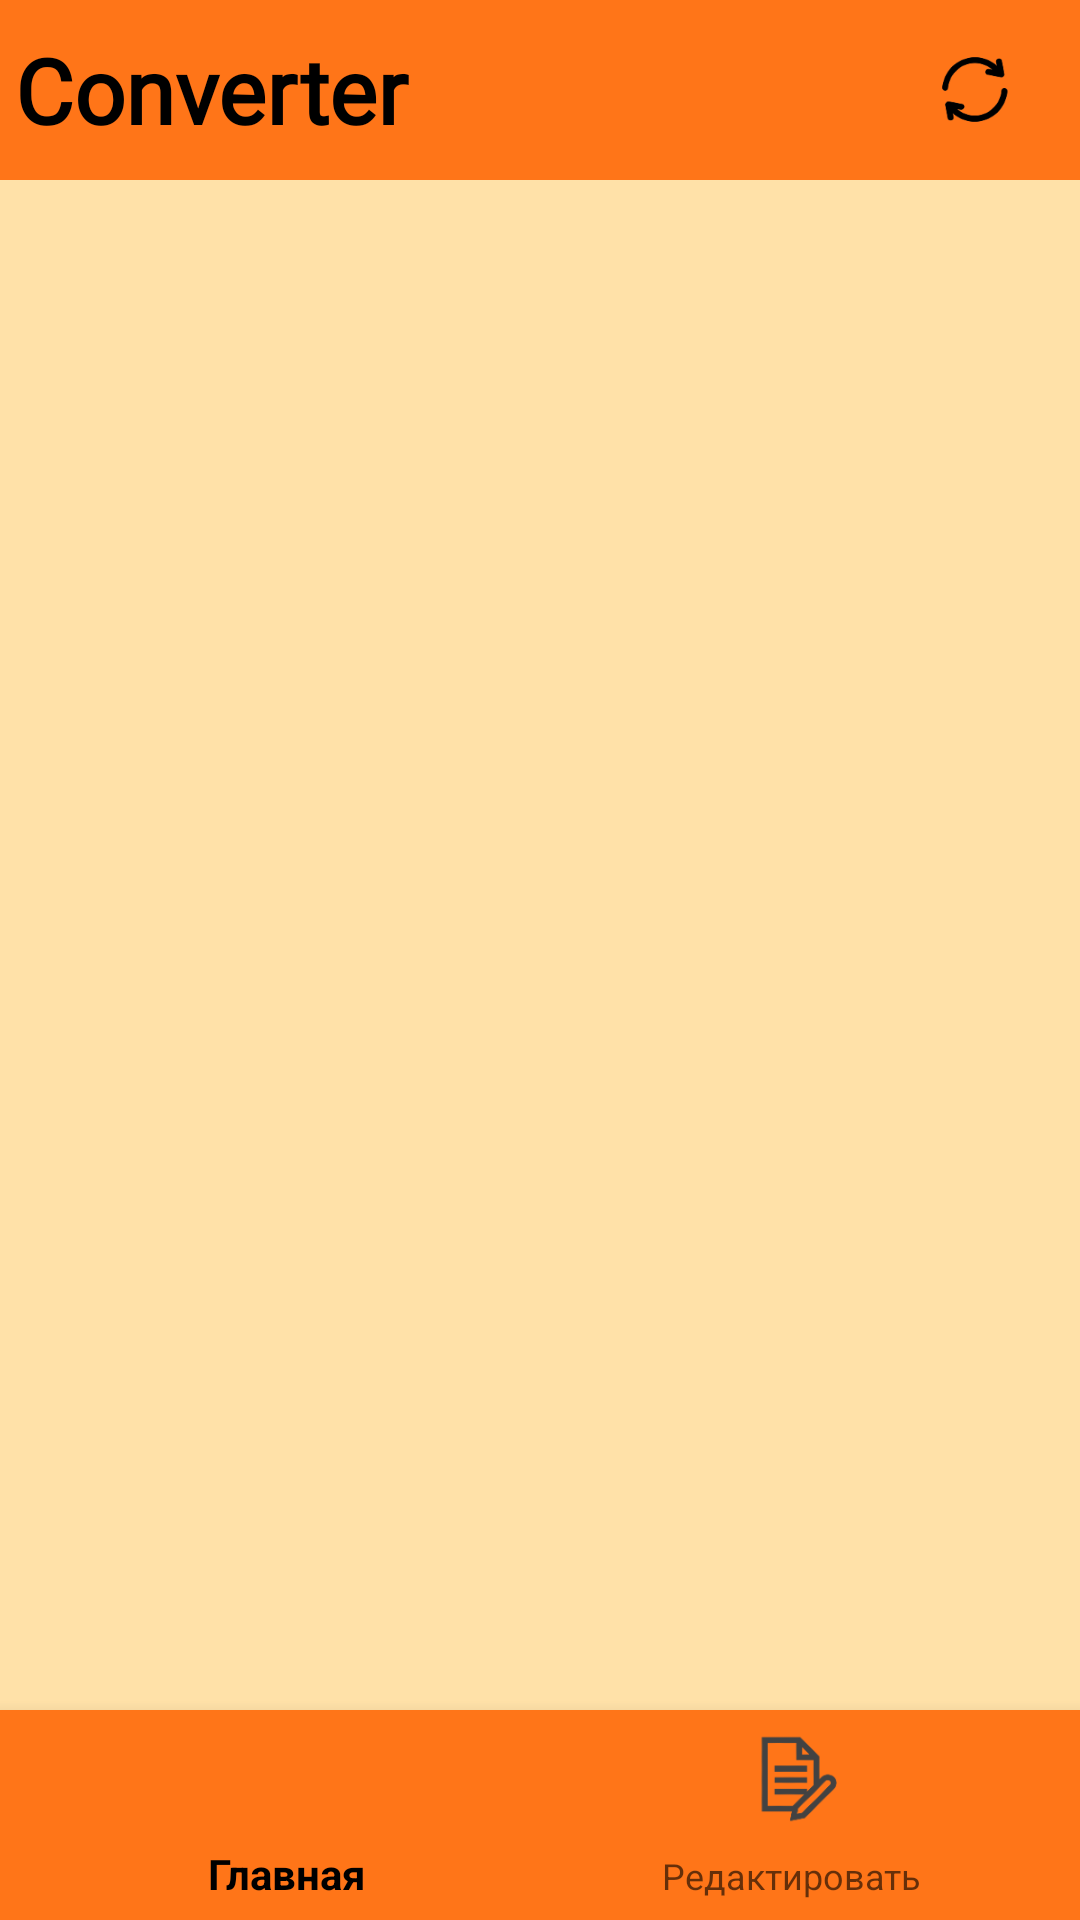

Named icons in this screenshot (1080 × 1920) and their bounding boxes, (x1, y1, x2, y2):
update: (942, 57, 1008, 122)
